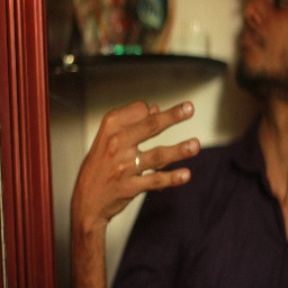K: (74, 100, 203, 209)
